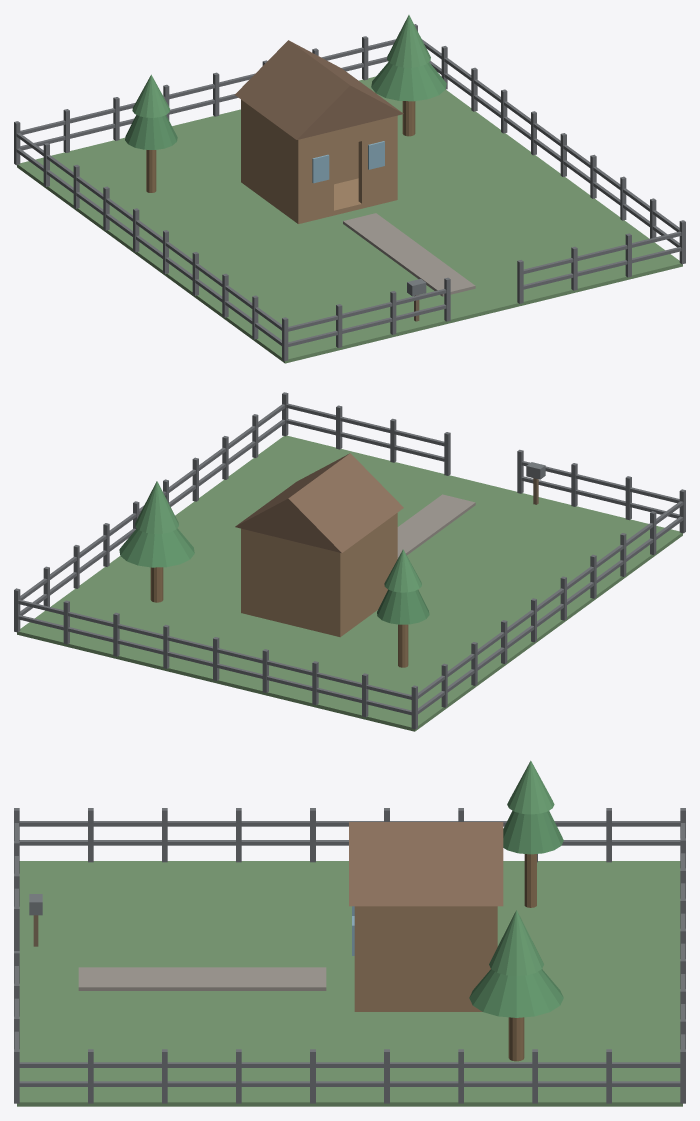
File: house_lot.glb
The picture shows the model from 3 angles, top to bottom: view 1: azimuth 30°, elevation 25°; view 2: azimuth 150°, elevation 25°; view 3: azimuth 270°, elevation 25°; orthographic projection. The views are drawn at different scales.
Visible parts, largest first — view 1: lot_0_15, lot_0_14, lot_0_1, lot_0_16, lot_0_5, lot_0_70, lot_0_4, lot_0_51, lot_0_50, lot_0_63, lot_0_62, lot_0_67 (+10 smaller); view 2: lot_0_15, lot_0_14, lot_0_3, lot_0_1, lot_0_16, lot_0_70, lot_0_39, lot_0_38, lot_0_51, lot_0_50, lot_0_63, lot_0_67 (+7 smaller); view 3: lot_0_15, lot_0_2, lot_0_14, lot_0_16, lot_0_62, lot_0_63, lot_0_70, lot_0_51, lot_0_50, lot_0_67, lot_0_71, lot_0_68 (+4 smaller).
Boxes of the visible parts, box(x1,y1,x2,y2) form: lot_0_15: box(17, 76, 682, 363); lot_0_14: box(235, 40, 403, 139); lot_0_1: box(241, 99, 304, 223); lot_0_16: box(343, 213, 475, 296); lot_0_5: box(358, 117, 391, 203); lot_0_70: box(371, 62, 446, 101); lot_0_4: box(304, 131, 333, 222); lot_0_51: box(16, 133, 281, 330); lot_0_50: box(16, 148, 281, 345); lot_0_63: box(422, 39, 679, 231); lot_0_62: box(429, 61, 679, 247); lot_0_67: box(125, 115, 177, 149); lot_0_15: box(17, 435, 682, 731); lot_0_14: box(235, 453, 403, 552); lot_0_3: box(247, 530, 334, 635); lot_0_1: box(334, 513, 397, 636); lot_0_16: box(397, 494, 475, 558); lot_0_70: box(119, 528, 194, 567); lot_0_39: box(18, 599, 411, 699); lot_0_38: box(18, 615, 411, 715); lot_0_51: box(418, 501, 683, 698); lot_0_50: box(418, 516, 683, 714); lot_0_63: box(20, 404, 285, 599); lot_0_67: box(377, 589, 429, 624); lot_0_15: box(17, 861, 682, 1106); lot_0_2: box(354, 906, 497, 1011); lot_0_14: box(349, 822, 503, 906); lot_0_16: box(78, 967, 326, 990); lot_0_62: box(19, 1081, 680, 1086); lot_0_63: box(19, 1062, 680, 1067); lot_0_70: box(469, 969, 563, 1017); lot_0_51: box(19, 821, 680, 826); lot_0_50: box(19, 840, 680, 845); lot_0_67: box(503, 810, 563, 854); lot_0_71: box(489, 910, 543, 976); lot_0_68: box(507, 760, 554, 814).
Size of the model in its own units: 12.12 by 3.8 by 14.12.
